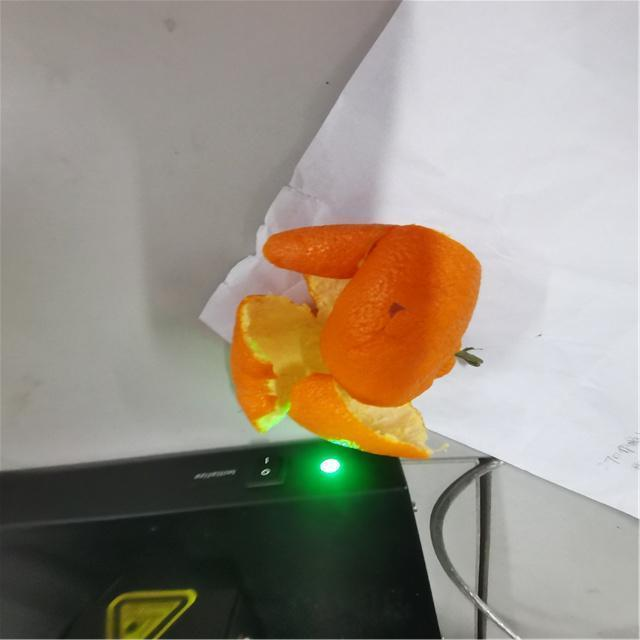orange peel: (223, 218, 487, 461)
